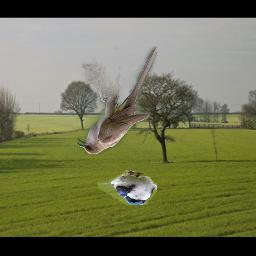Cuckoo: (77, 46, 157, 154)
Swallow: (97, 171, 157, 206)
